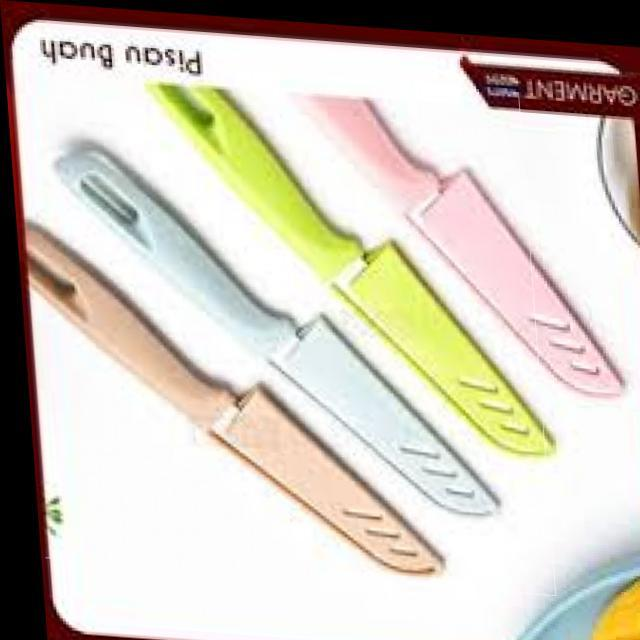knife: (51, 144, 499, 515), (147, 84, 558, 459), (24, 219, 446, 575), (292, 63, 628, 399)
